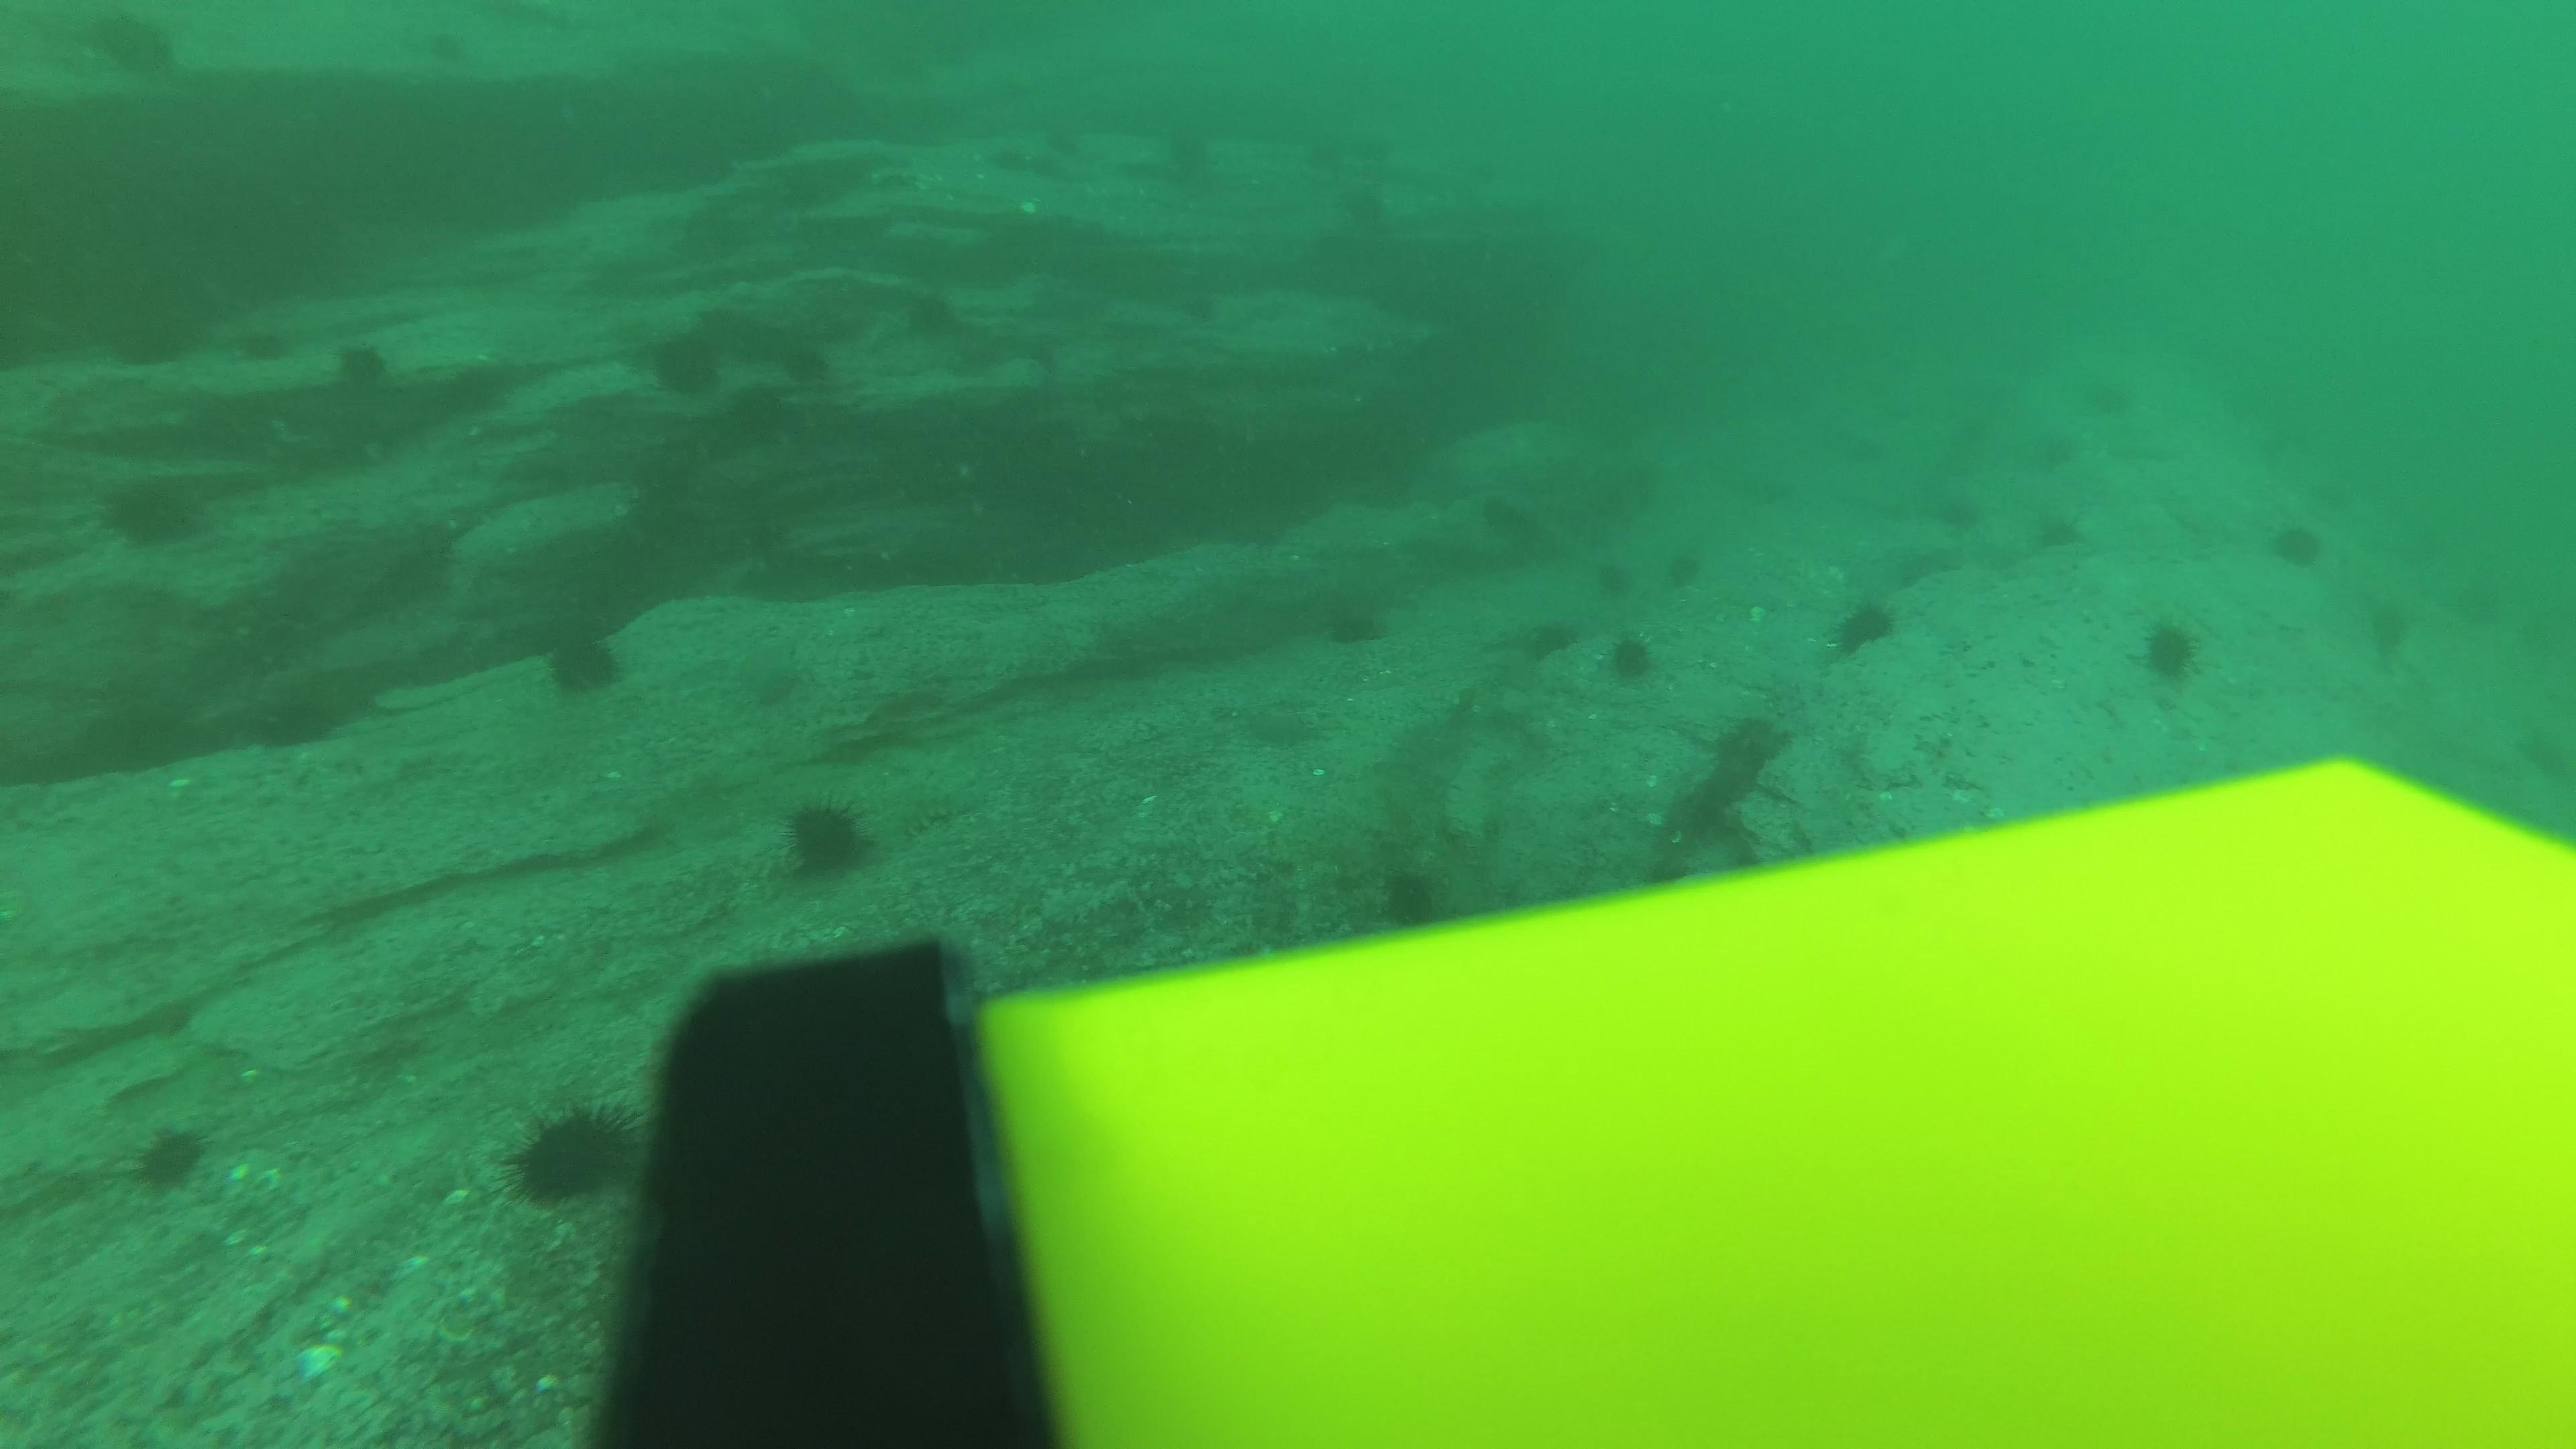echinus: (499, 1097, 640, 1212), (92, 464, 216, 557), (770, 791, 881, 888), (534, 617, 632, 704), (249, 676, 350, 755), (122, 1116, 218, 1200), (640, 318, 731, 403), (720, 370, 810, 453), (1371, 858, 1456, 934), (2130, 612, 2206, 688), (1824, 591, 1902, 660), (1315, 586, 1394, 653), (780, 333, 851, 400), (1148, 113, 1219, 180), (892, 283, 962, 349), (1330, 179, 1401, 244), (327, 336, 396, 398), (2360, 593, 2417, 663), (2265, 513, 2328, 573), (1927, 487, 1990, 547), (2026, 426, 2089, 487), (1649, 536, 1713, 596), (1582, 545, 1645, 605), (2443, 570, 2507, 628), (2024, 506, 2088, 564), (2081, 370, 2144, 428), (1516, 610, 1580, 665), (1601, 628, 1660, 686), (1295, 129, 1357, 182), (1343, 117, 1405, 170), (1168, 278, 1230, 331), (1039, 119, 1088, 157), (1023, 143, 1070, 180), (991, 136, 1035, 175)
starfish: (1235, 694, 1329, 754), (734, 648, 810, 713)
